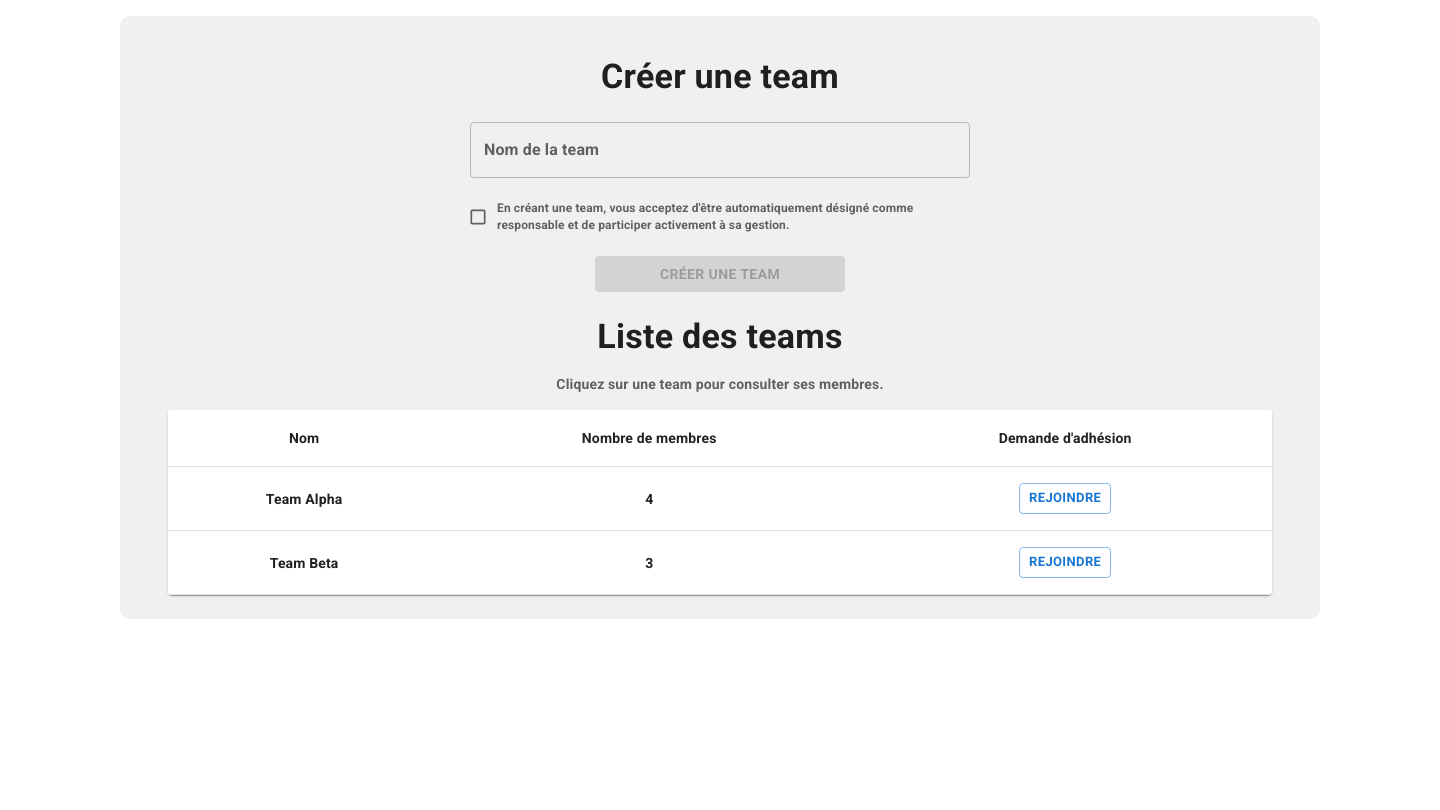
TeamsListPage › shows a join error and dismisses it
Click the button "Rejoindre" in the row of "Team Alpha". click: (1065, 499)
box: top-left (1019, 484), bottom-right (1111, 514)
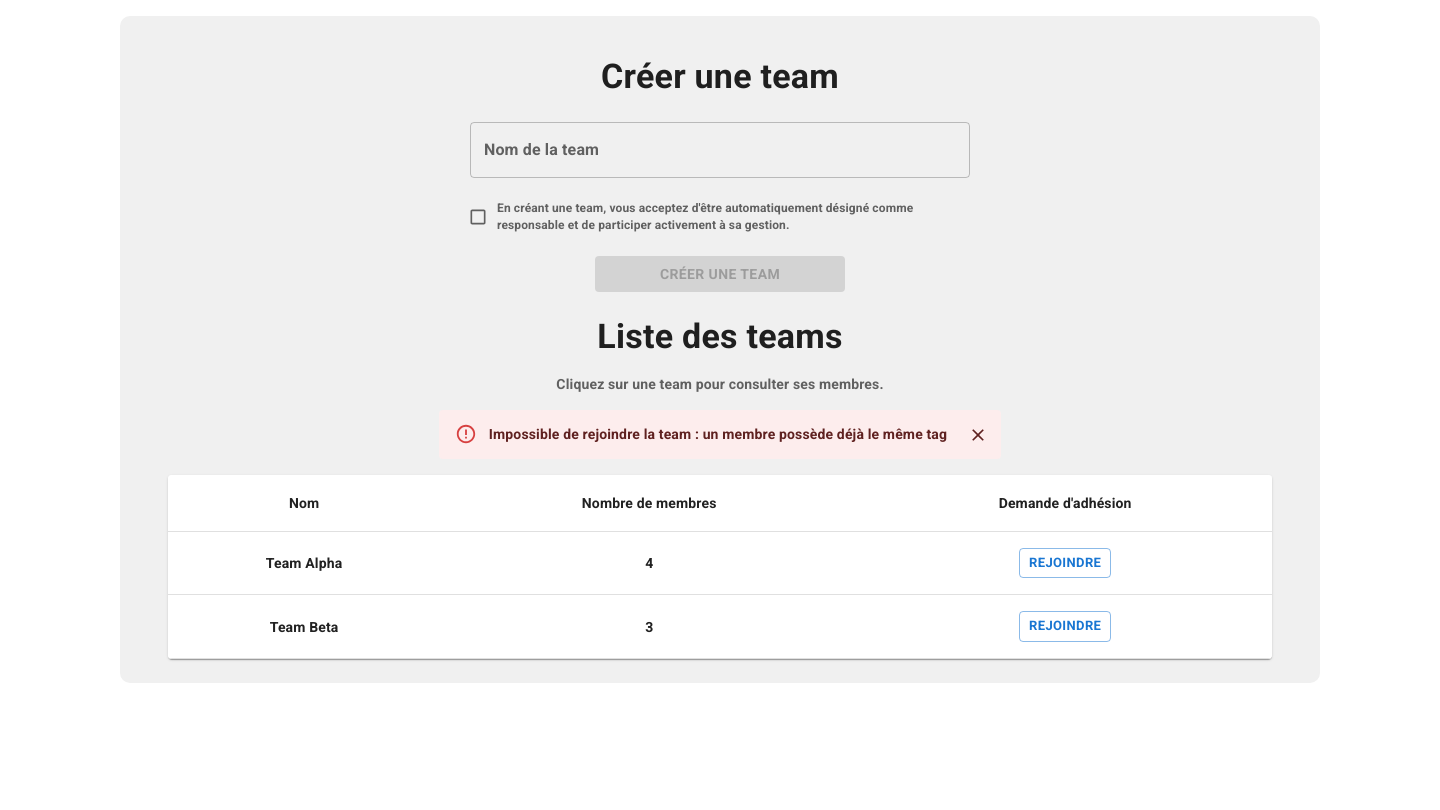
Expected: the text "Impossible de rejoindre la team" is shown, top-left (489, 426), bottom-right (947, 442)
Click the button named "close". click: (978, 436)
box: top-left (963, 420), bottom-right (993, 450)
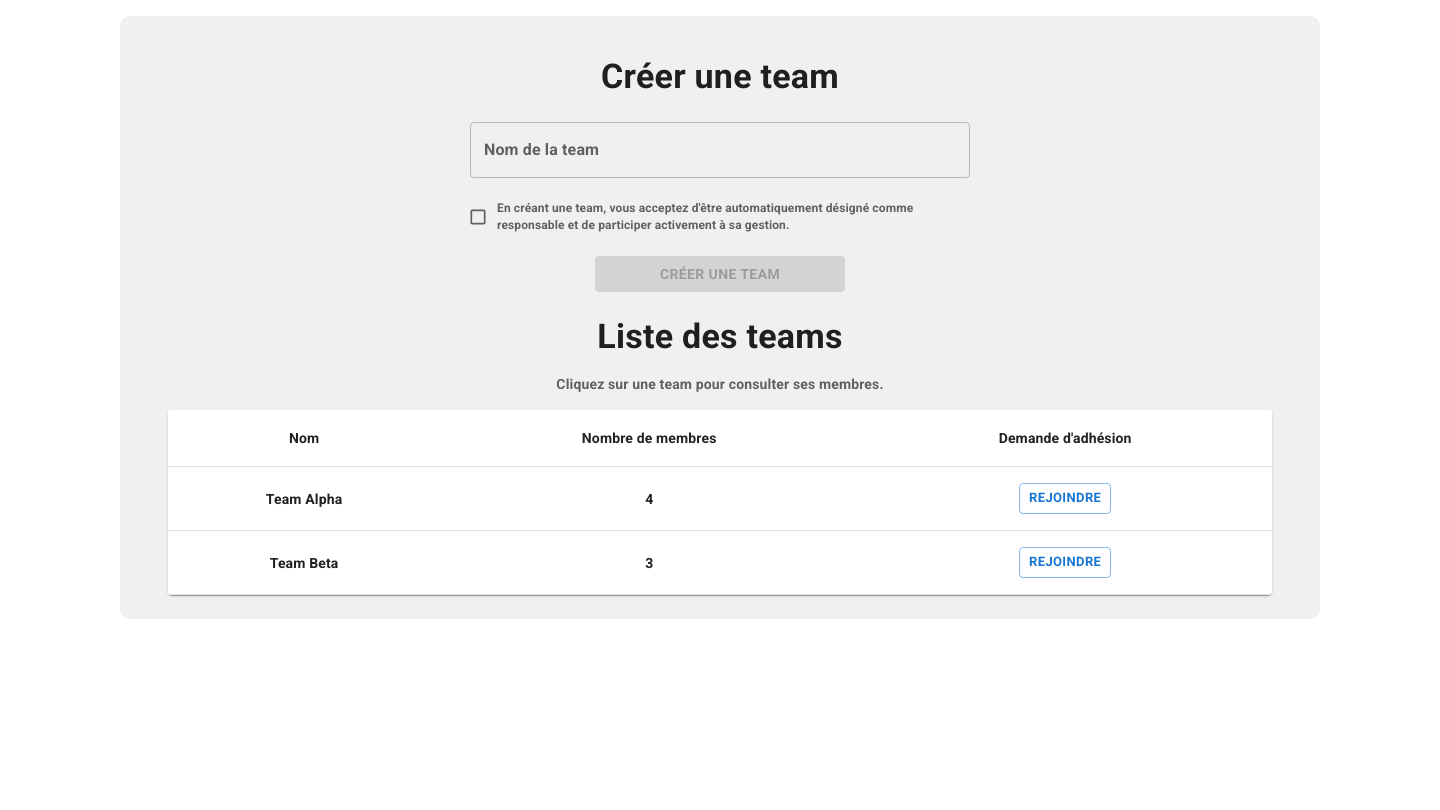
Expected: the text "Impossible de rejoindre la team" is gone
